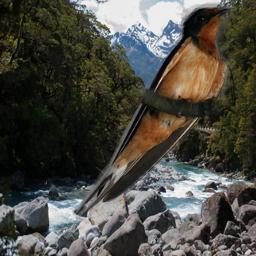Swallow: (68, 1, 236, 220)
